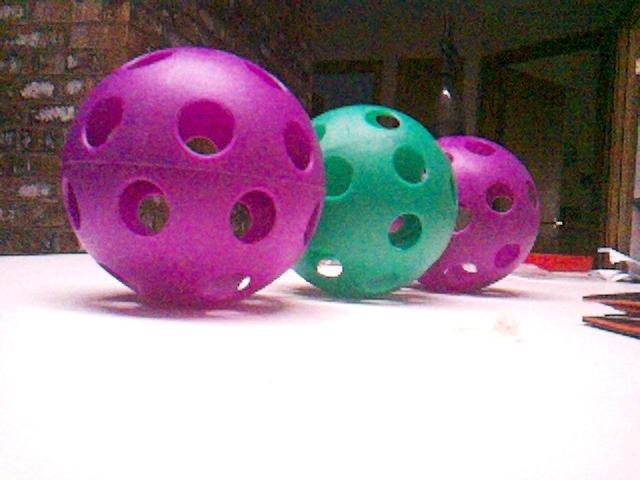Green: (292, 106, 459, 299)
Purple: (60, 50, 322, 303), (415, 137, 542, 293)
